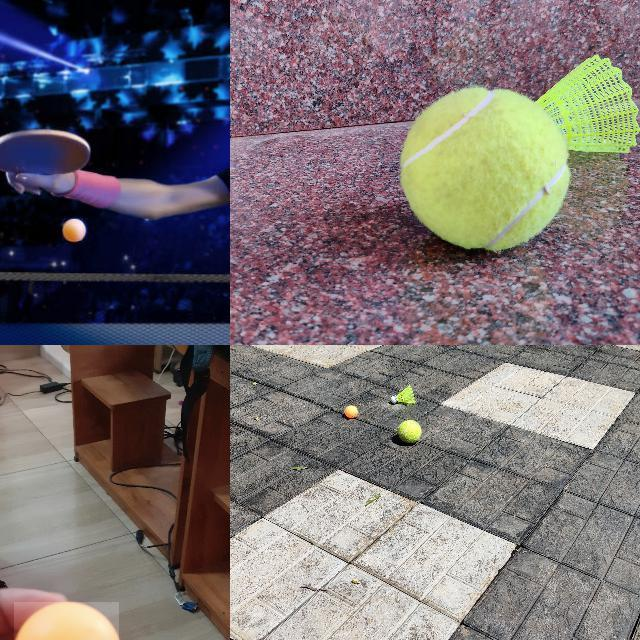ping-pong-ball: (14, 601, 121, 639), (62, 218, 84, 242), (344, 406, 358, 418)
